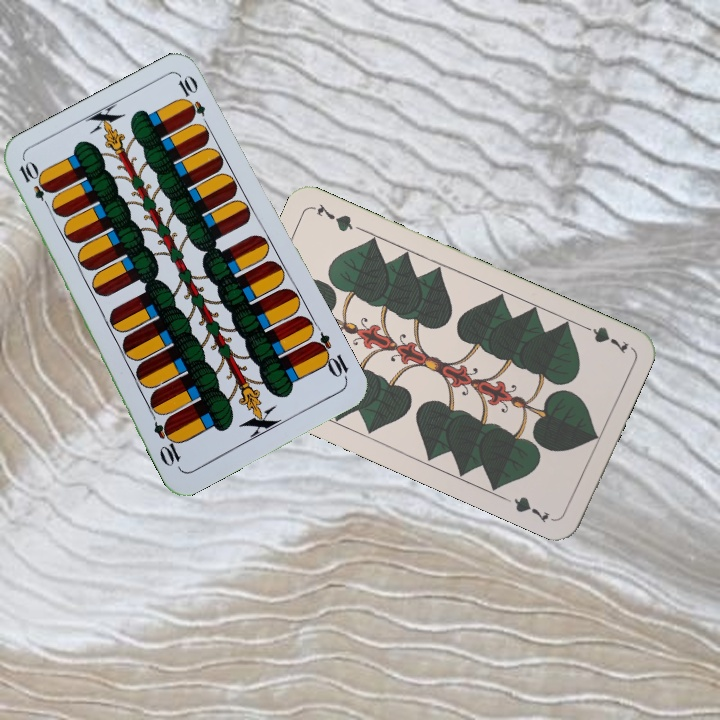E10: (307, 329, 351, 383), (15, 157, 55, 213)
G7: (576, 320, 631, 357)
